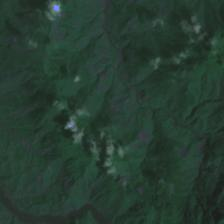landslides: (63, 91, 78, 101), (28, 105, 39, 115)
